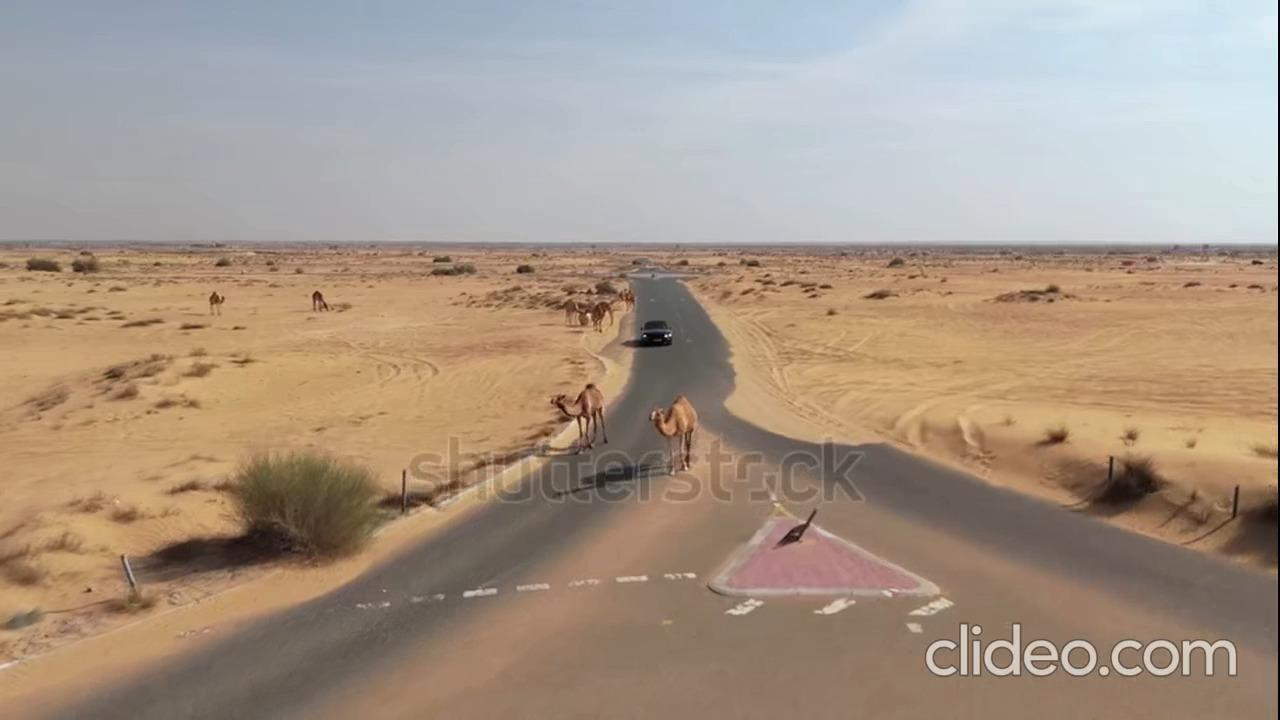camel: (547, 372, 615, 453), (647, 391, 708, 475)
